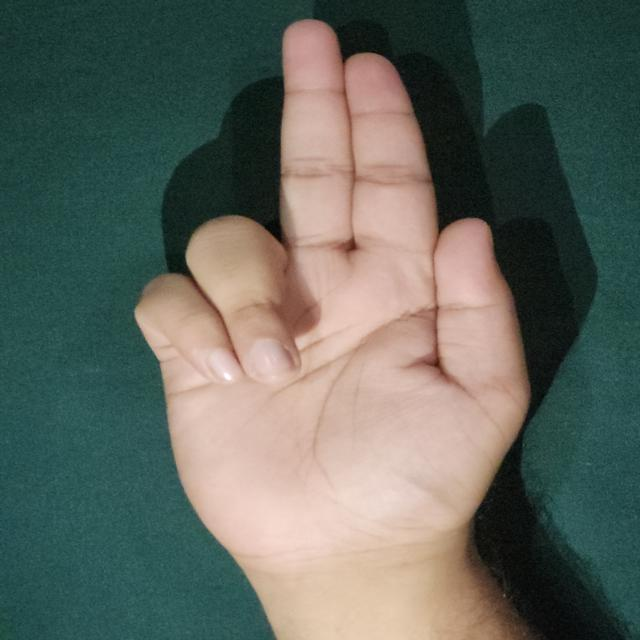ٹ: (132, 11, 550, 640)
